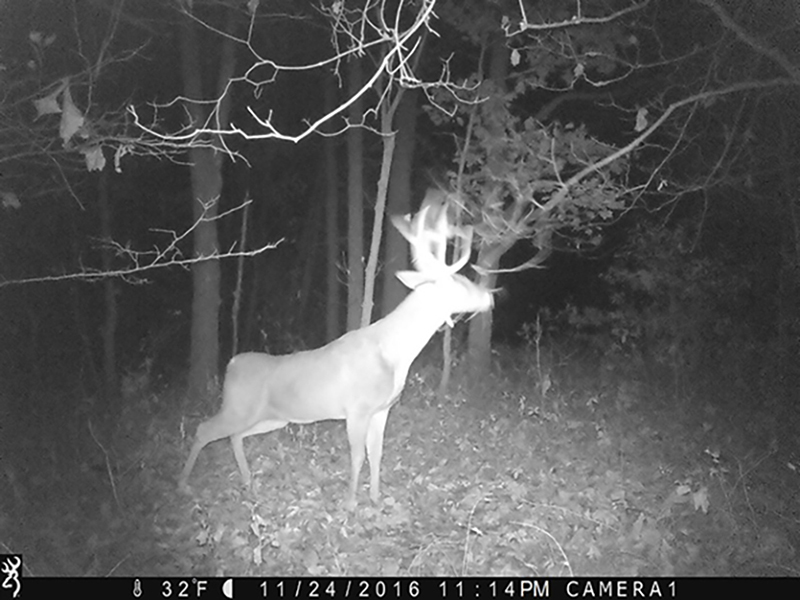cervo: (178, 234, 501, 508)
